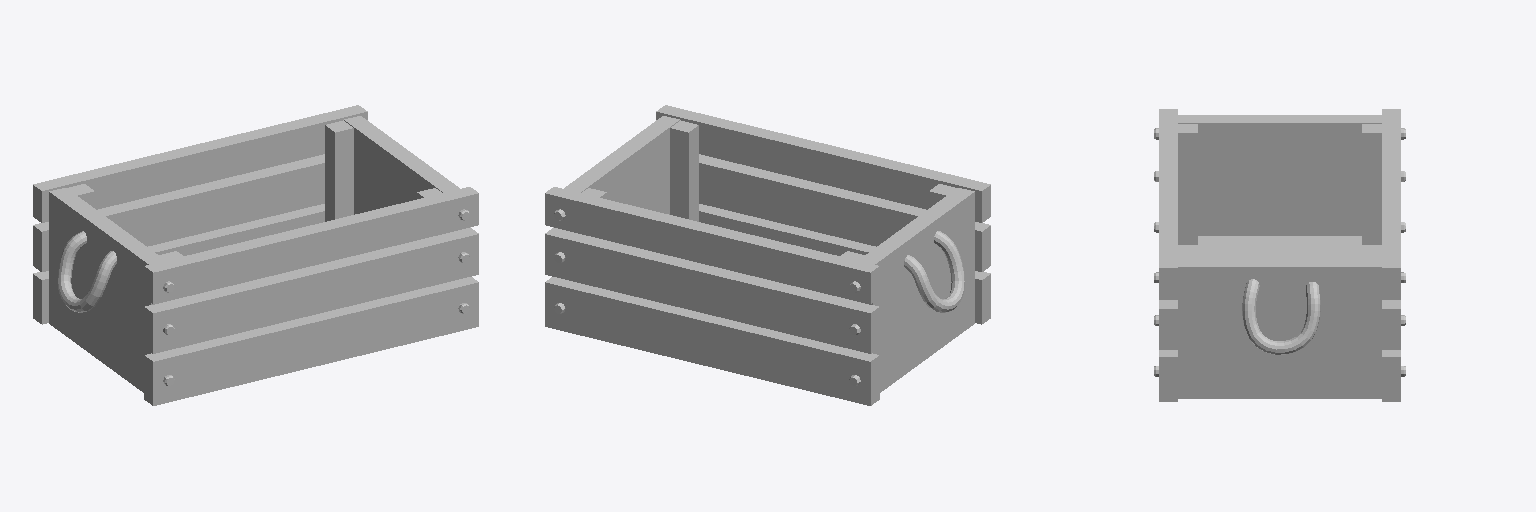
File: FarmCrate_Empty.obj
3 renders of one model, left to right at view 1: azimuth 30°, elevation 25°; view 2: azimuth 150°, elevation 25°; view 3: azimuth 270°, elevation 25°, orthographic.
Visible parts, largest first — view 1: FarmCrate_Empty_Cube.127; view 2: FarmCrate_Empty_Cube.127; view 3: FarmCrate_Empty_Cube.127.
Boxes of the visible parts, x1,y1,x2,y2 form: FarmCrate_Empty_Cube.127: [33, 105, 478, 405]; FarmCrate_Empty_Cube.127: [545, 105, 990, 405]; FarmCrate_Empty_Cube.127: [1154, 109, 1405, 401].
Size of the model in its own units: 0.7138 by 0.2438 by 0.4142.